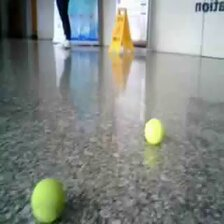tennis: (31, 179, 67, 223), (143, 117, 165, 145)
